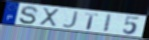5: (122, 16, 142, 36)
I: (102, 14, 113, 34)
J: (61, 10, 80, 29)
S: (18, 5, 40, 25)
T: (84, 13, 100, 31)
X: (39, 7, 61, 28)
